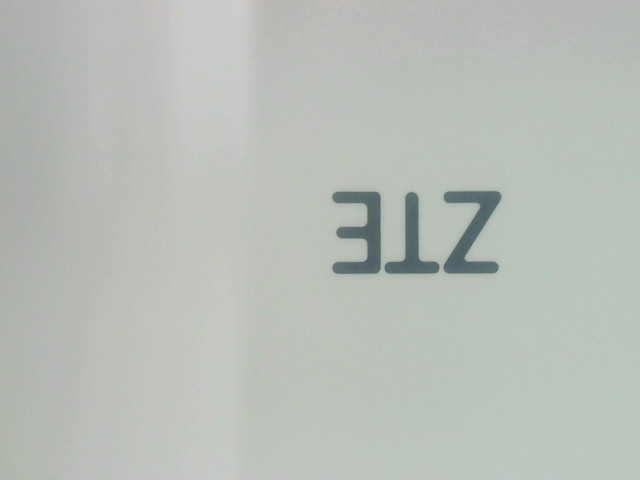AN_ZTE: (324, 180, 506, 281)
